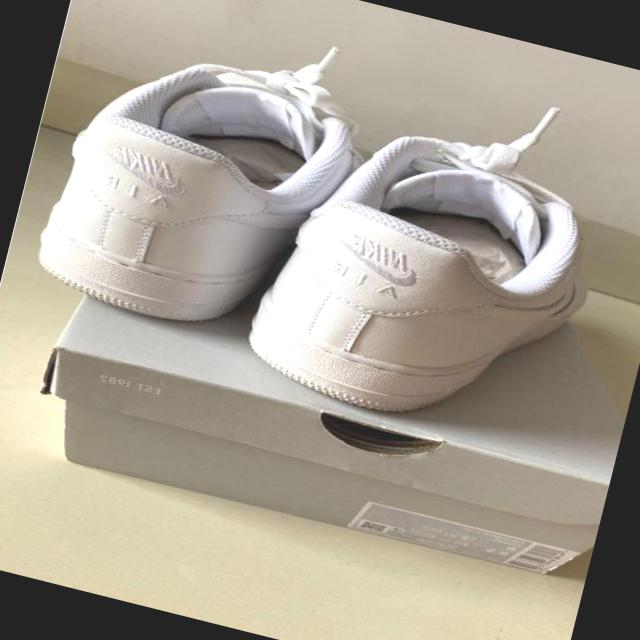nike_original_airforce: (228, 102, 610, 456), (28, 11, 379, 354)
